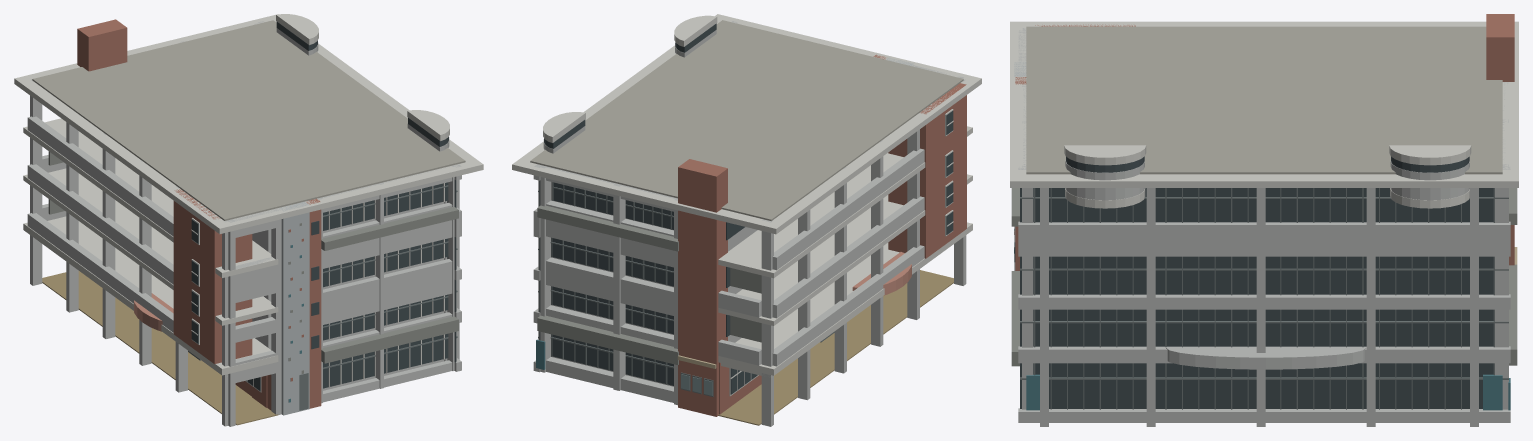
Rendered from library.glb.
3 views of the same model, side by side, from view 1: azimuth 30°, elevation 25°; view 2: azimuth 150°, elevation 25°; view 3: azimuth 270°, elevation 25° (orthographic). The views are drawn at different scales.
Parts seen in each view (by area): view 1: aaa9a0, bdbfbd, d0d0ca, a67465, 465155, a39370, b6bcbd, 8f928c, 727b7b, bc8b7c; view 2: aaa9a0, bdbfbd, d0d0ca, a67465, 465155, 8f928c, a39370, 727b7b, bc8b7c; view 3: aaa9a0, 465155, bdbfbd, d0d0ca, 727b7b, a67465, 8f928c, 527f88.
Part boxes in pixels (bbox=[...]): aaa9a0: bbox=[32, 20, 465, 220]; bdbfbd: bbox=[27, 21, 461, 426]; d0d0ca: bbox=[14, 14, 483, 392]; a67465: bbox=[77, 19, 321, 410]; 465155: bbox=[191, 22, 456, 390]; a39370: bbox=[42, 271, 278, 425]; b6bcbd: bbox=[279, 201, 309, 415]; 8f928c: bbox=[48, 151, 458, 373]; 727b7b: bbox=[188, 185, 457, 410]; bc8b7c: bbox=[134, 293, 173, 331]; aaa9a0: bbox=[530, 20, 963, 221]; bdbfbd: bbox=[533, 21, 966, 426]; d0d0ca: bbox=[512, 14, 981, 396]; a67465: bbox=[678, 54, 966, 416]; 465155: bbox=[539, 23, 953, 394]; 8f928c: bbox=[537, 205, 761, 364]; a39370: bbox=[718, 270, 953, 425]; 727b7b: bbox=[538, 182, 834, 396]; bc8b7c: bbox=[852, 252, 911, 295]; aaa9a0: bbox=[1026, 26, 1502, 174]; 465155: bbox=[1014, 156, 1493, 408]; bdbfbd: bbox=[1018, 28, 1510, 426]; d0d0ca: bbox=[1010, 21, 1518, 208]; 727b7b: bbox=[1020, 188, 1508, 409]; a67465: bbox=[1014, 14, 1514, 270]; 8f928c: bbox=[1011, 188, 1517, 366]; 527f88: bbox=[1014, 229, 1510, 410].
Size of the model in its own units: 23 by 20 by 31.
